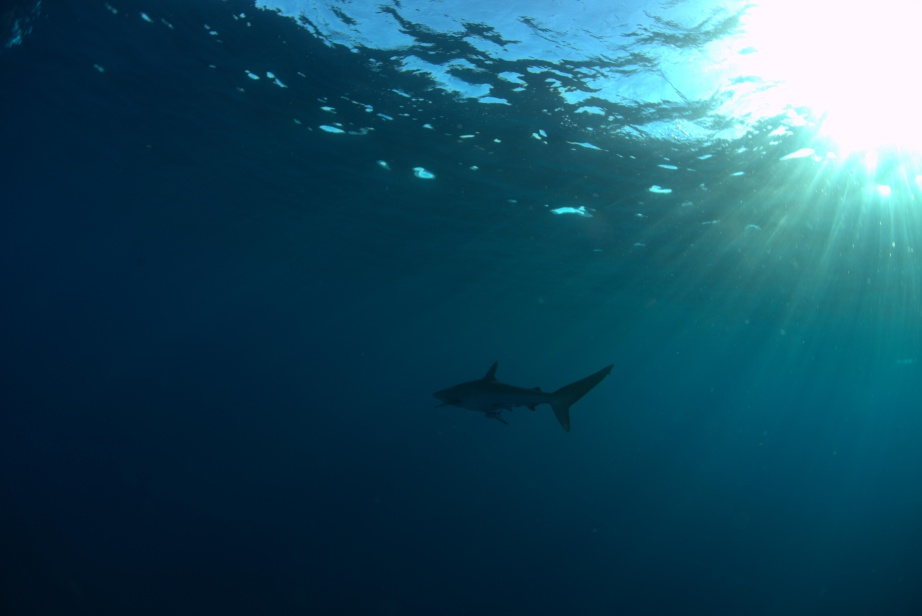Sedoso: (432, 350, 632, 441)
